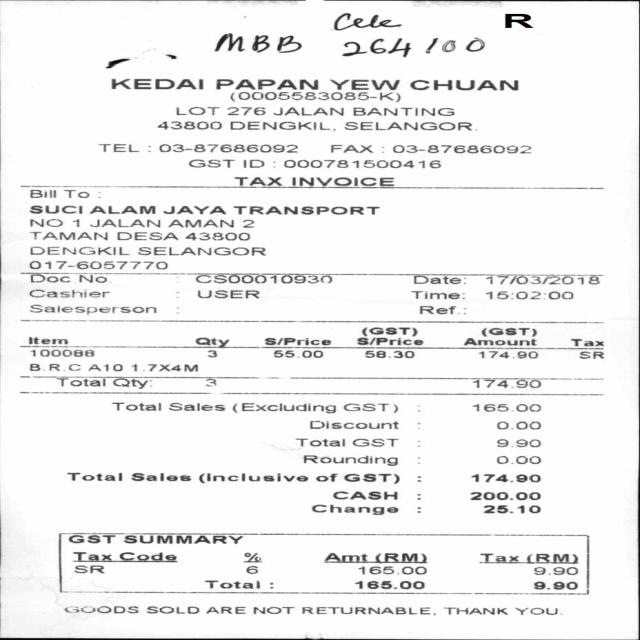text: (230, 91, 400, 102), (233, 205, 379, 215), (283, 159, 440, 168), (29, 260, 167, 270), (195, 274, 332, 284), (344, 121, 476, 131), (137, 246, 266, 256), (30, 304, 155, 314), (214, 78, 318, 90), (159, 144, 297, 153), (391, 145, 529, 154), (198, 472, 308, 483), (123, 534, 241, 544), (484, 275, 599, 285), (232, 402, 335, 413), (409, 80, 519, 90), (302, 607, 436, 615), (230, 121, 334, 131), (110, 78, 204, 89), (303, 455, 397, 466), (310, 504, 398, 515), (289, 177, 394, 186), (352, 107, 454, 116), (309, 420, 398, 430), (30, 246, 128, 255), (486, 291, 572, 300), (27, 289, 110, 298), (28, 231, 108, 240), (328, 80, 398, 90), (88, 218, 158, 228), (354, 580, 424, 590), (183, 231, 250, 241), (156, 120, 220, 130), (168, 218, 232, 228), (331, 490, 395, 500), (273, 106, 343, 115), (470, 379, 540, 388), (470, 473, 539, 482), (357, 566, 426, 575), (163, 205, 225, 215), (115, 231, 177, 241), (262, 337, 330, 346), (472, 403, 540, 412), (343, 473, 398, 484), (88, 205, 155, 214), (131, 363, 197, 372), (63, 606, 137, 614), (463, 338, 535, 346), (360, 327, 416, 337), (342, 403, 398, 413), (197, 290, 259, 299), (470, 492, 539, 500), (413, 275, 467, 285), (409, 290, 463, 300), (130, 472, 190, 481), (357, 338, 422, 346), (443, 608, 507, 616), (55, 377, 106, 387), (30, 348, 93, 356), (168, 402, 224, 411), (480, 328, 535, 337), (66, 472, 121, 481), (204, 580, 259, 589), (111, 401, 160, 411), (28, 205, 82, 214), (525, 553, 578, 562), (418, 305, 465, 315), (68, 534, 115, 544), (294, 438, 345, 447), (375, 553, 426, 562), (120, 552, 177, 560), (482, 505, 538, 513), (112, 378, 152, 389), (323, 552, 367, 562), (533, 580, 577, 590), (502, 13, 531, 28), (232, 177, 280, 186), (351, 438, 399, 447), (145, 606, 198, 614), (27, 273, 69, 283), (188, 159, 234, 168), (478, 351, 536, 358), (30, 363, 80, 371), (72, 551, 112, 561), (174, 106, 218, 115), (495, 421, 539, 430), (495, 438, 539, 447), (533, 566, 577, 575), (272, 350, 321, 358), (364, 350, 413, 358), (329, 144, 372, 153), (98, 143, 139, 152), (26, 336, 67, 345), (478, 553, 519, 562), (494, 456, 540, 464), (516, 608, 562, 616), (28, 218, 62, 228), (227, 106, 264, 115), (195, 337, 228, 347), (253, 606, 294, 614), (73, 564, 104, 574), (206, 606, 244, 614), (77, 273, 106, 283), (570, 338, 604, 346), (87, 363, 121, 371), (242, 552, 261, 563), (29, 190, 54, 198), (63, 190, 88, 198), (315, 473, 336, 482), (243, 159, 263, 168), (577, 352, 602, 359), (204, 378, 216, 387), (242, 219, 252, 228), (246, 566, 257, 574), (71, 218, 79, 228), (207, 350, 216, 358)
